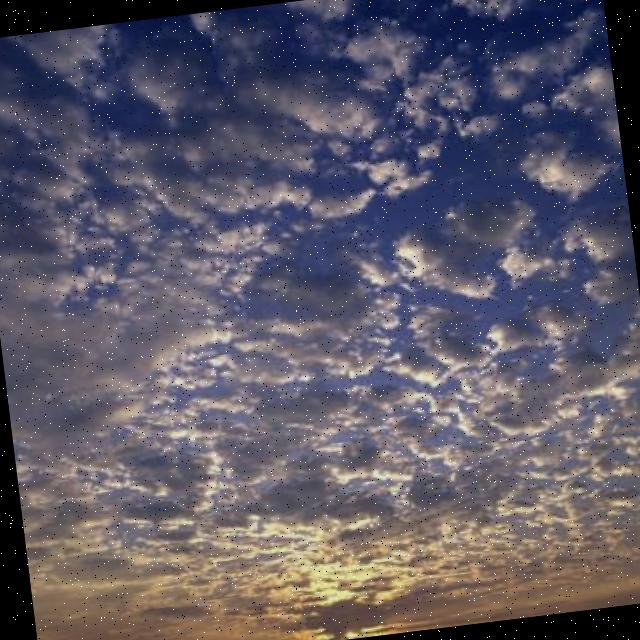Cc: (1, 43, 640, 640)
